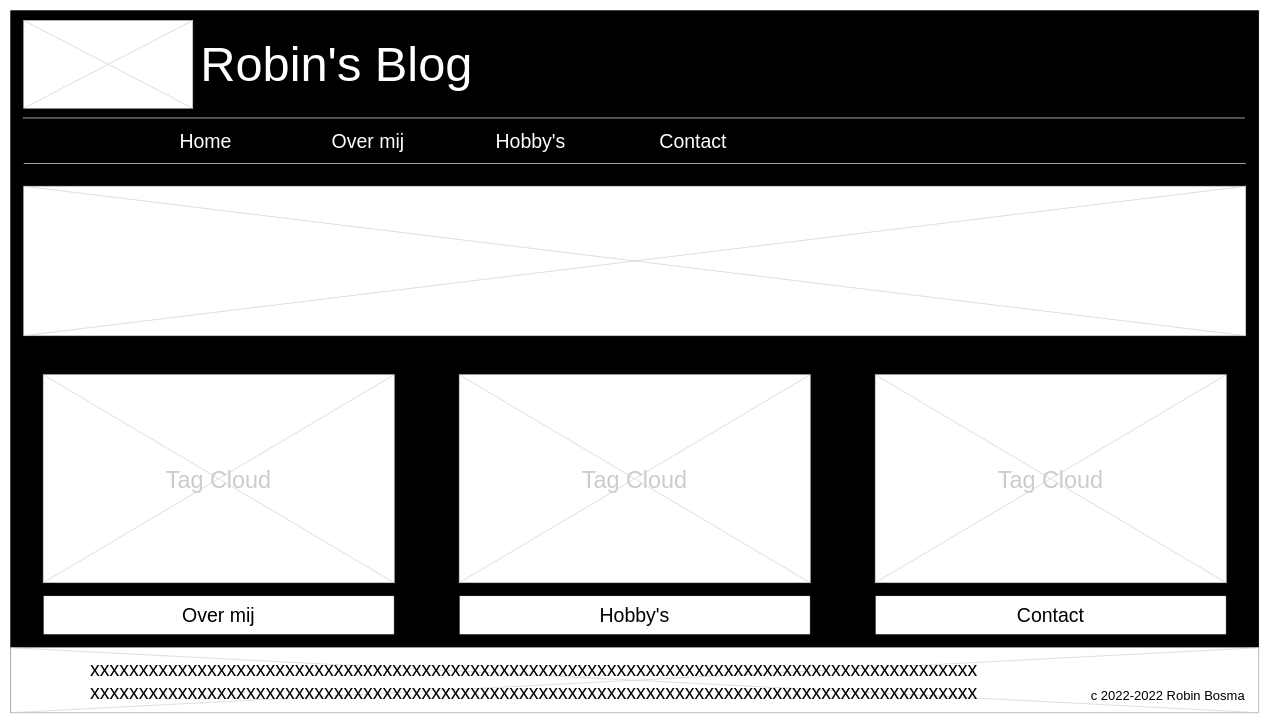
Some shapes in this 1269 by 723 pixel diagram are drawn without their labels. The box of each missing label's shape, as (x1, y1, x2, y2) in pixels:
Article Picture: (23, 186, 1246, 336)
Blog Logo: (23, 20, 193, 108)
